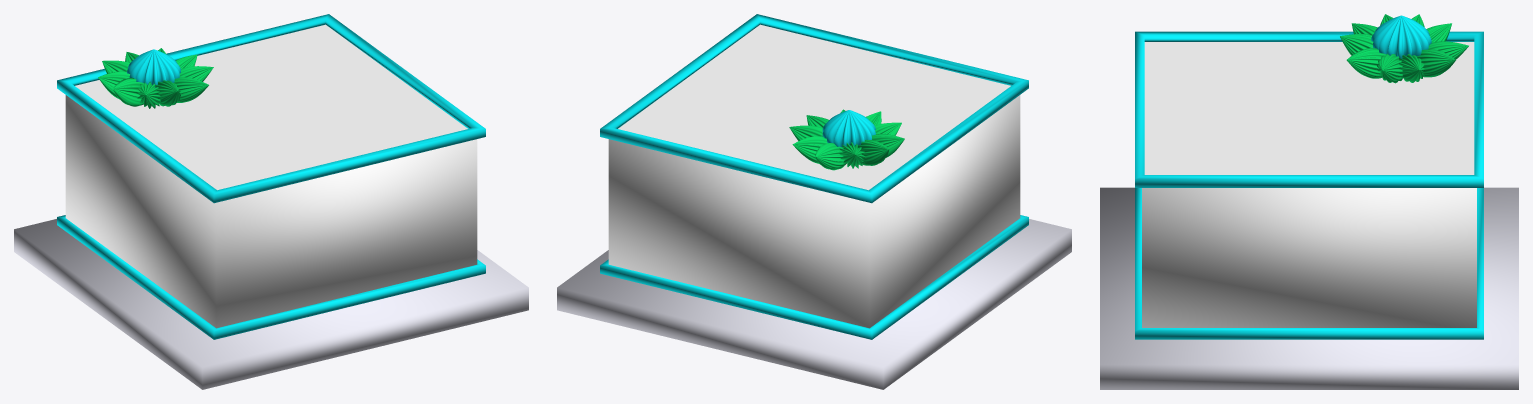
Rendered from square_vanilla_style3.glb.
3 renders of one model, left to right at view 1: azimuth 30°, elevation 25°; view 2: azimuth 150°, elevation 25°; view 3: azimuth 270°, elevation 25°, orthographic. The views are drawn at different scales.
Visible parts, largest first — view 1: CakeBase, CakeTopCircle, IcingStand, IcingRing, IcingRing.001, leaf, design1; view 2: CakeBase, CakeTopCircle, IcingStand, IcingRing, IcingRing.001, leaf, design1; view 3: CakeBase, CakeTopCircle, IcingStand, IcingRing, IcingRing.001, leaf, design1.
Boxes of the visible parts, x1,y1,x2,y2 form: CakeBase: (65,95,477,328); CakeTopCircle: (75,24,467,190); IcingStand: (14,219,528,389); IcingRing: (57,14,485,203); IcingRing.001: (57,215,485,339); leaf: (98,48,213,108); design1: (127,49,180,87); CakeBase: (608,95,1020,328); CakeTopCircle: (618,24,1010,190); IcingStand: (557,219,1071,389); IcingRing: (600,14,1028,203); IcingRing.001: (600,215,1028,339); leaf: (789,109,904,170); design1: (822,110,875,147); CakeBase: (1142,188,1476,327); CakeTopCircle: (1144,42,1474,174); IcingStand: (1100,187,1518,389); IcingRing: (1135,31,1483,187); IcingRing.001: (1135,188,1483,339); leaf: (1340,14,1468,83); design1: (1371,15,1431,58).
Size of the model in its own units: 3 by 1.93 by 3.
